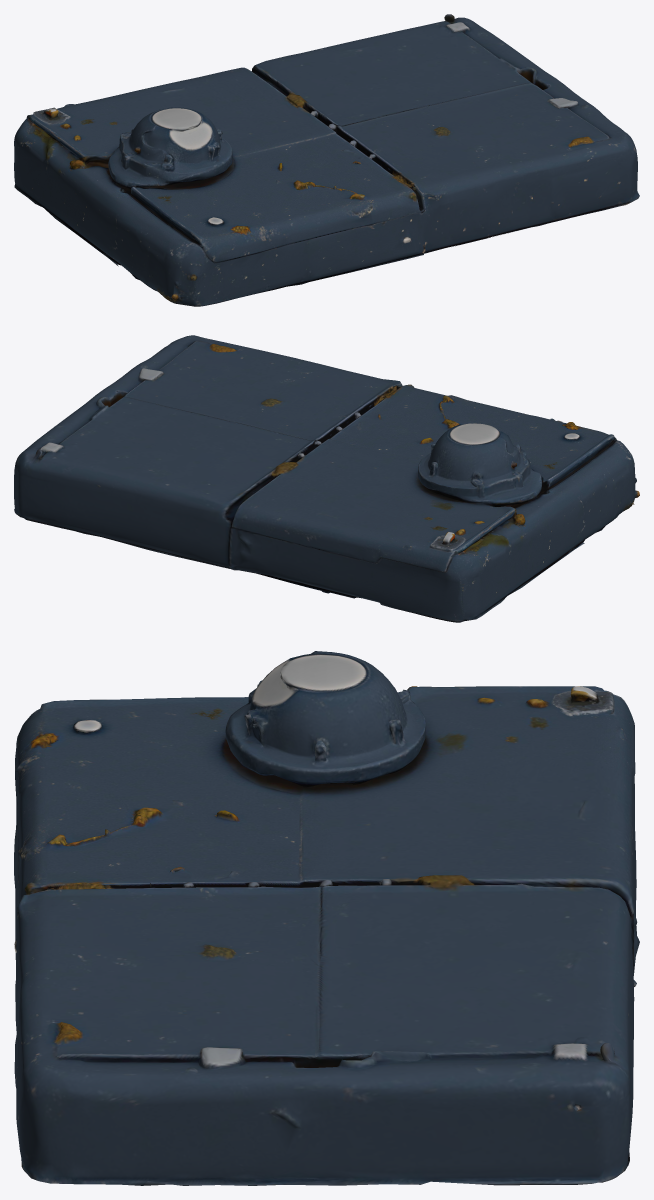
File: ScannerBox_Lid.fbx
The picture shows the model from 3 angles, top to bottom: view 1: azimuth 30°, elevation 25°; view 2: azimuth 150°, elevation 25°; view 3: azimuth 270°, elevation 25°; orthographic projection. The views are drawn at different scales.
Visible parts, largest first — view 1: ScannerBox_Lid; view 2: ScannerBox_Lid; view 3: ScannerBox_Lid.
Part boxes in pixels (x1,y1,x2,y2): ScannerBox_Lid: (14, 14, 639, 306); ScannerBox_Lid: (14, 335, 639, 622); ScannerBox_Lid: (14, 651, 639, 1185).
Size of the model in its own units: 97.45 by 22.36 by 65.1.
